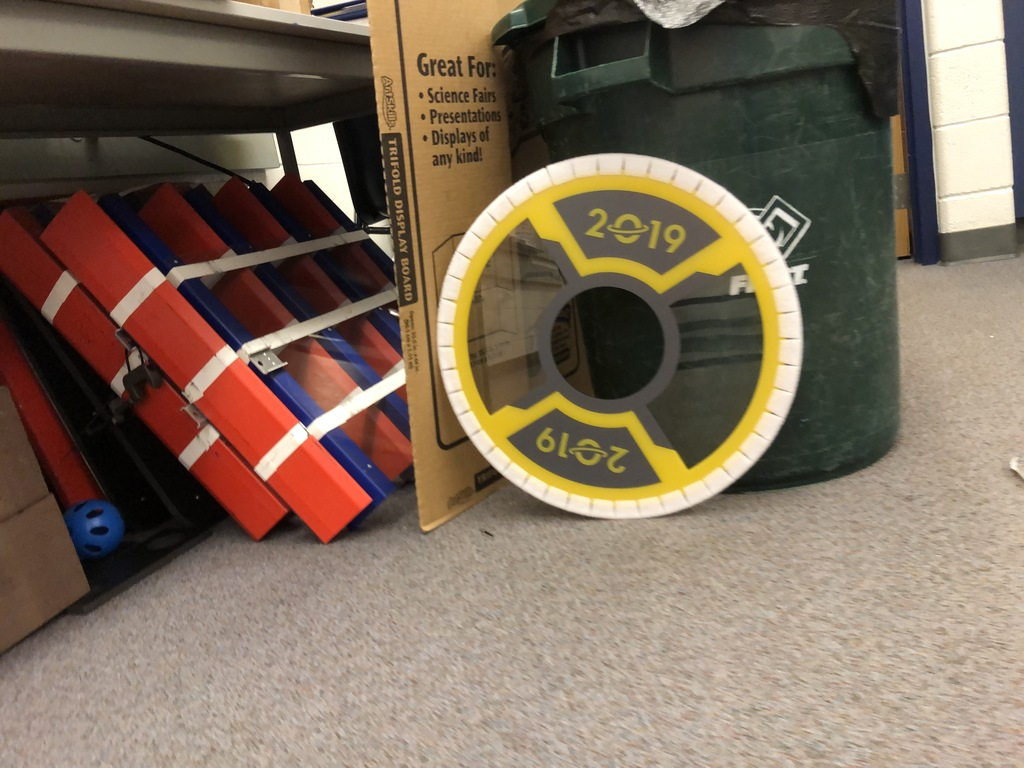hatch_panel: (413, 132, 830, 552)
